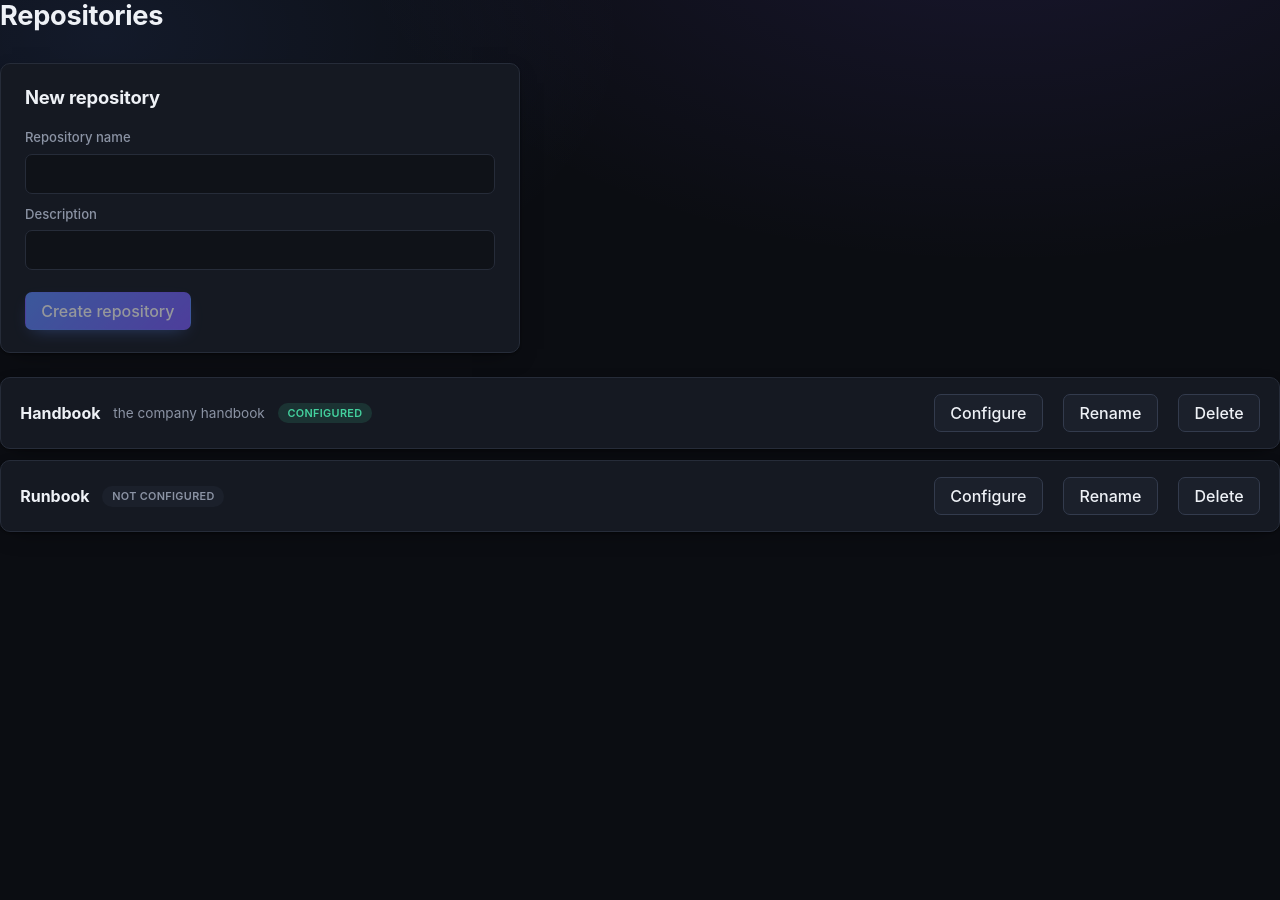
Scenario: AdminRepositoriesPage › configures an unconfigured repo: pick a verified provider, models auto-load, save
Click the button "Configure" in the row of "Not configured": (988, 496) [934,477,1043,515]
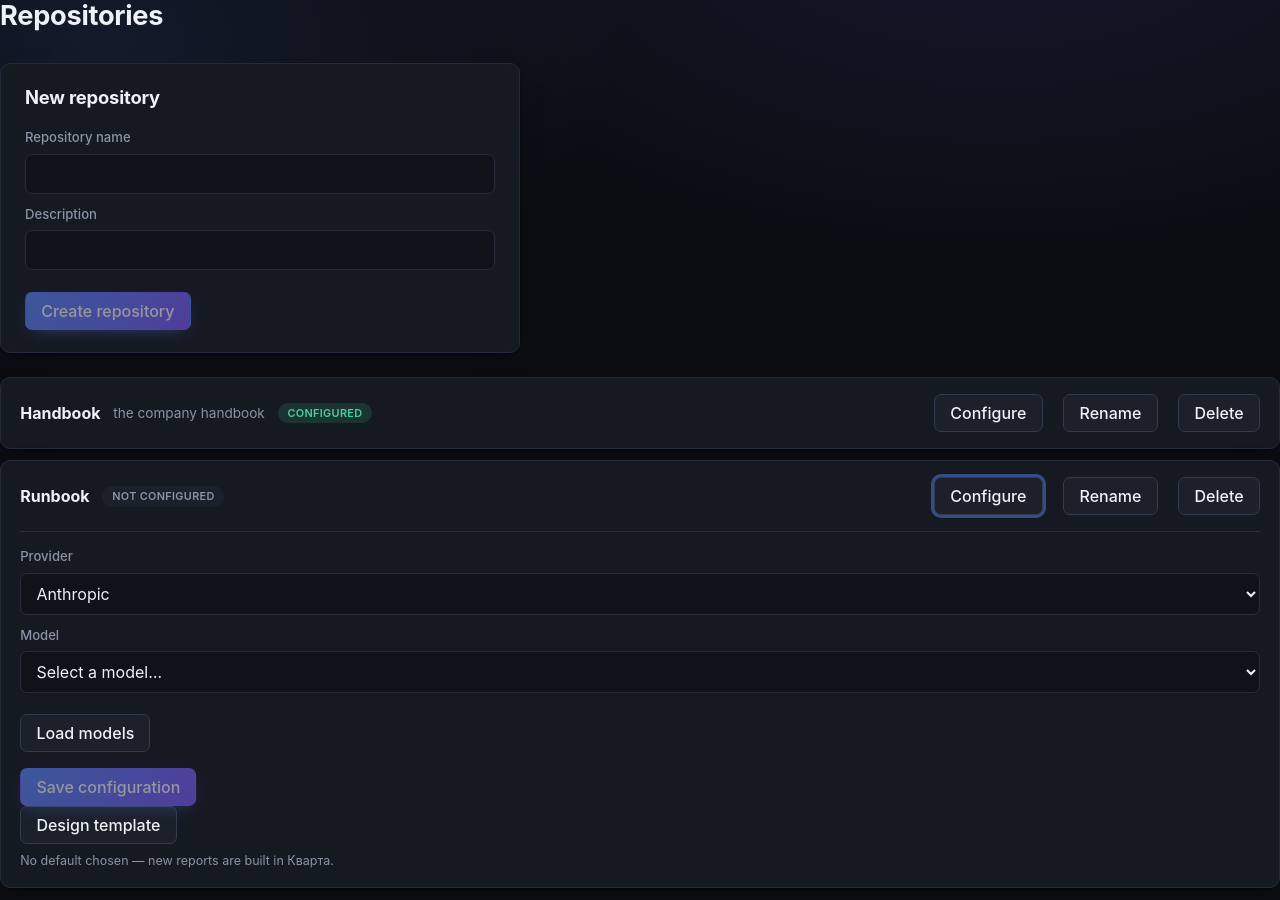
Select "claude-opus-4-8" in the dropdown labelled "Model": (640, 672) [20,651,1260,693]
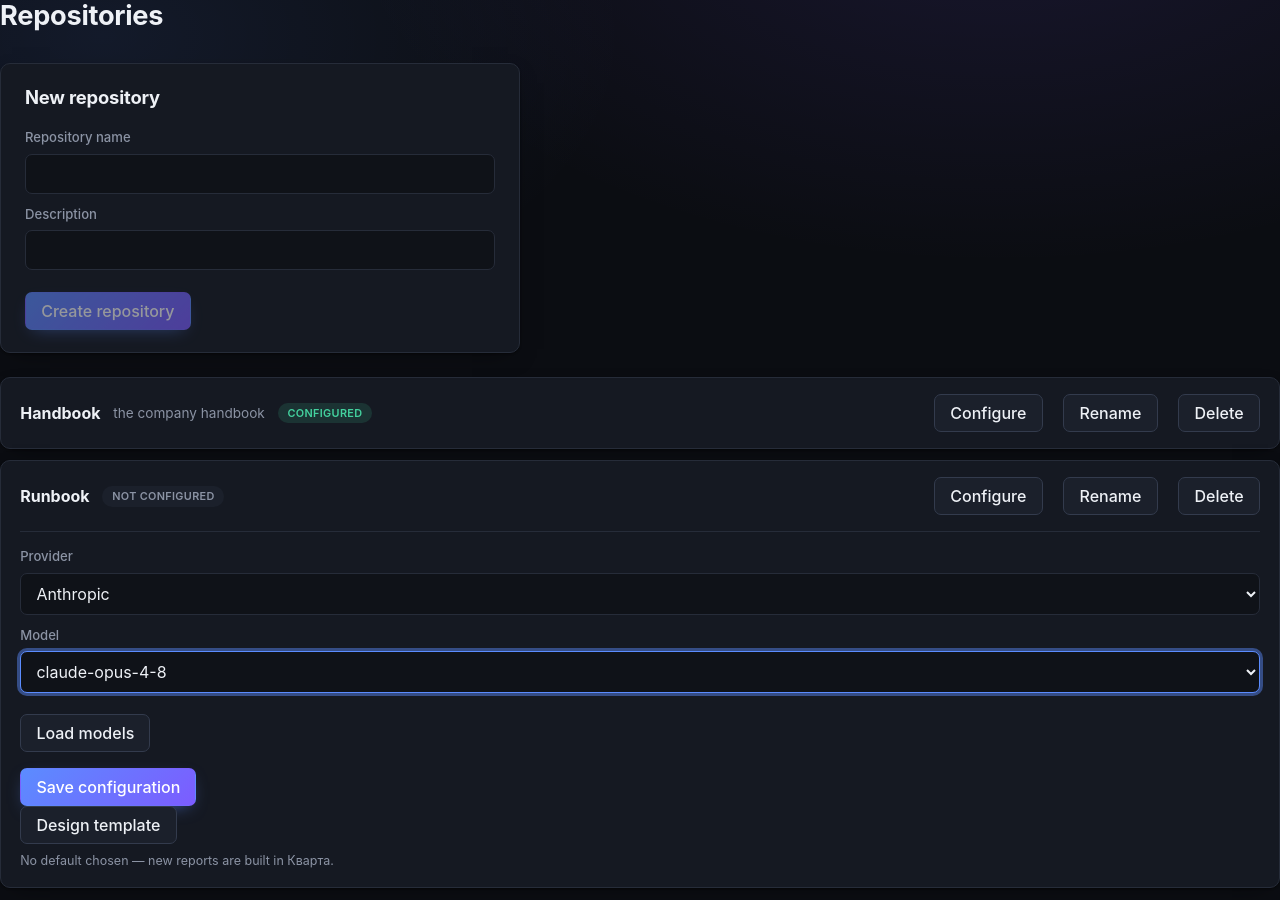
Click the button "Save configuration": (108, 788) [20,768,196,806]
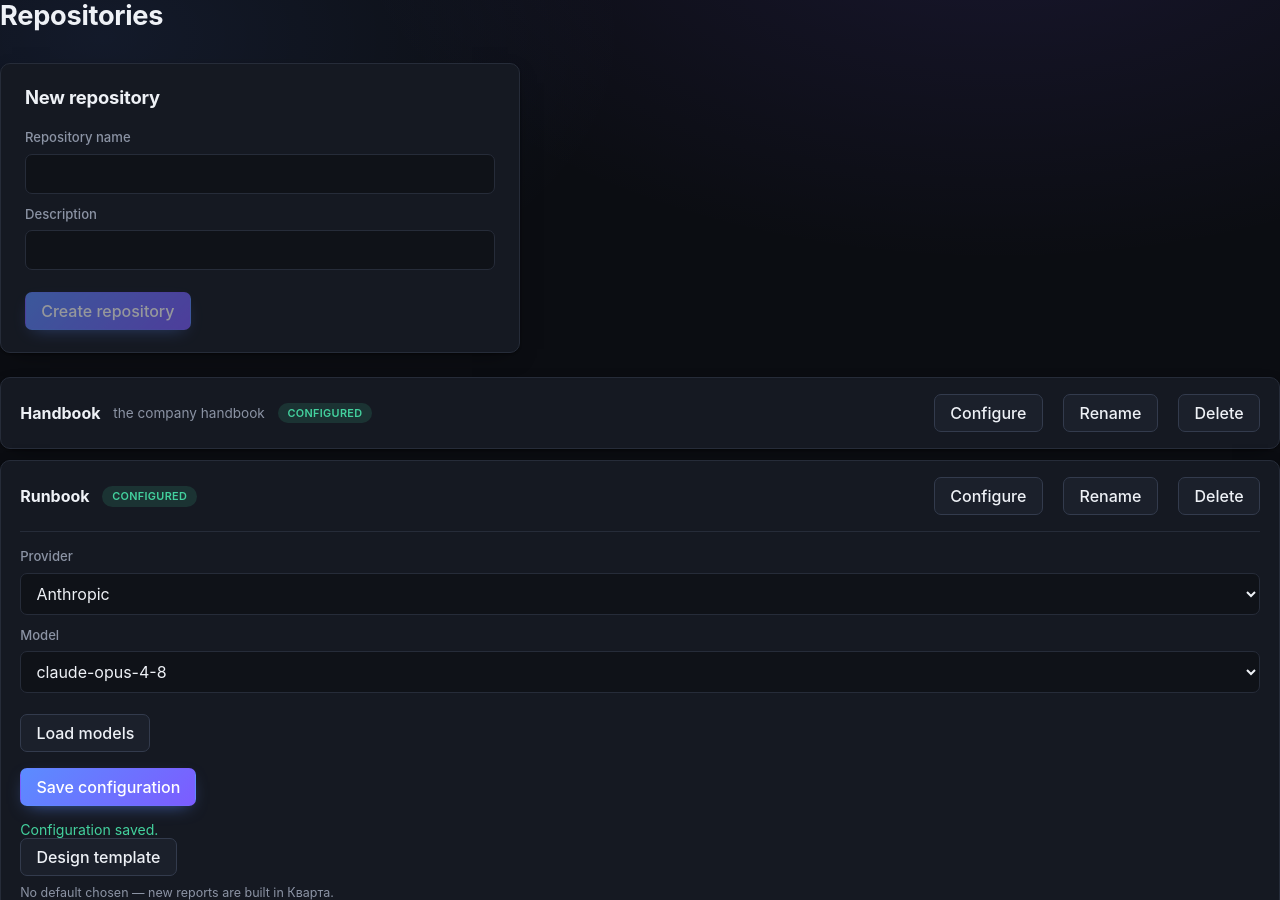
Now the text "Configuration saved." is shown, box [20,821,158,838]
